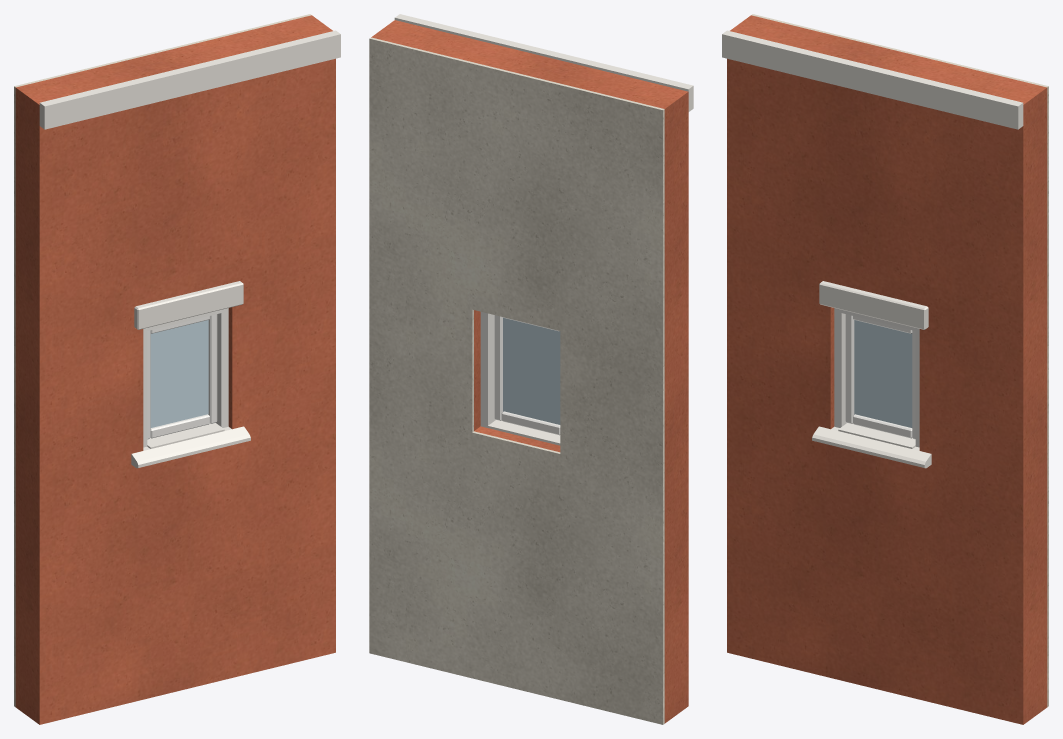
File: wall_render_shop_small_window.glb
3 renders of one model, left to right at view 1: azimuth 30°, elevation 25°; view 2: azimuth 150°, elevation 25°; view 3: azimuth 330°, elevation 25°, orthographic.
Visible parts, largest first — view 1: wall_render_shop_small_window_render, wall_render_shop_small_window_trim, wall_render_shop_small_window_glass, wall_render_shop_small_window_sash, wall_render_shop_small_window_frame, wall_render_shop_small_window_plaster; view 2: wall_render_shop_small_window_plaster, wall_render_shop_small_window_render, wall_render_shop_small_window_glass, wall_render_shop_small_window_trim, wall_render_shop_small_window_frame, wall_render_shop_small_window_sash; view 3: wall_render_shop_small_window_render, wall_render_shop_small_window_trim, wall_render_shop_small_window_glass, wall_render_shop_small_window_sash, wall_render_shop_small_window_frame, wall_render_shop_small_window_plaster.
Part boxes in pixels (x1,y1,x2,y2): wall_render_shop_small_window_render: (15, 15, 335, 724); wall_render_shop_small_window_trim: (39, 30, 340, 468); wall_render_shop_small_window_glass: (150, 320, 208, 427); wall_render_shop_small_window_sash: (147, 314, 217, 439); wall_render_shop_small_window_frame: (143, 308, 228, 447); wall_render_shop_small_window_plaster: (14, 14, 311, 706); wall_render_shop_small_window_plaster: (369, 37, 664, 724); wall_render_shop_small_window_render: (371, 20, 688, 723); wall_render_shop_small_window_glass: (503, 318, 560, 424); wall_render_shop_small_window_trim: (394, 14, 693, 445); wall_render_shop_small_window_frame: (480, 312, 495, 427); wall_render_shop_small_window_sash: (494, 315, 560, 435); wall_render_shop_small_window_render: (727, 15, 1047, 724); wall_render_shop_small_window_trim: (722, 30, 1023, 468); wall_render_shop_small_window_glass: (854, 320, 912, 427); wall_render_shop_small_window_sash: (845, 314, 915, 439); wall_render_shop_small_window_frame: (834, 308, 919, 447); wall_render_shop_small_window_plaster: (751, 14, 1048, 706).
Size of the model in its own units: 2 by 4.01 by 0.38.
6 materials, 2 textured.
